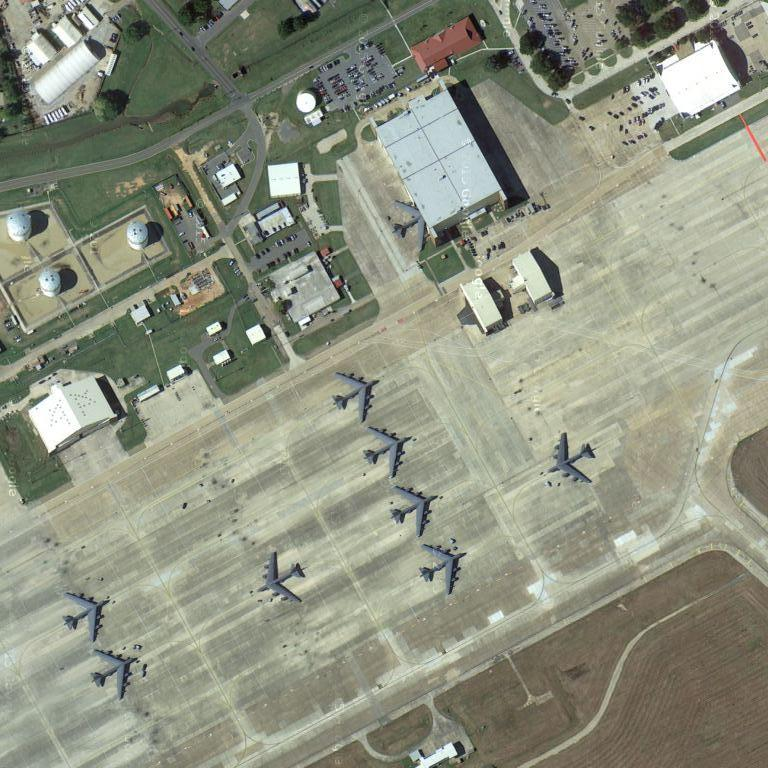B-52: (255, 548, 310, 611), (58, 586, 116, 645), (330, 364, 384, 425), (544, 433, 598, 491), (89, 644, 141, 704), (387, 481, 441, 538), (362, 420, 413, 476), (418, 540, 467, 597)
